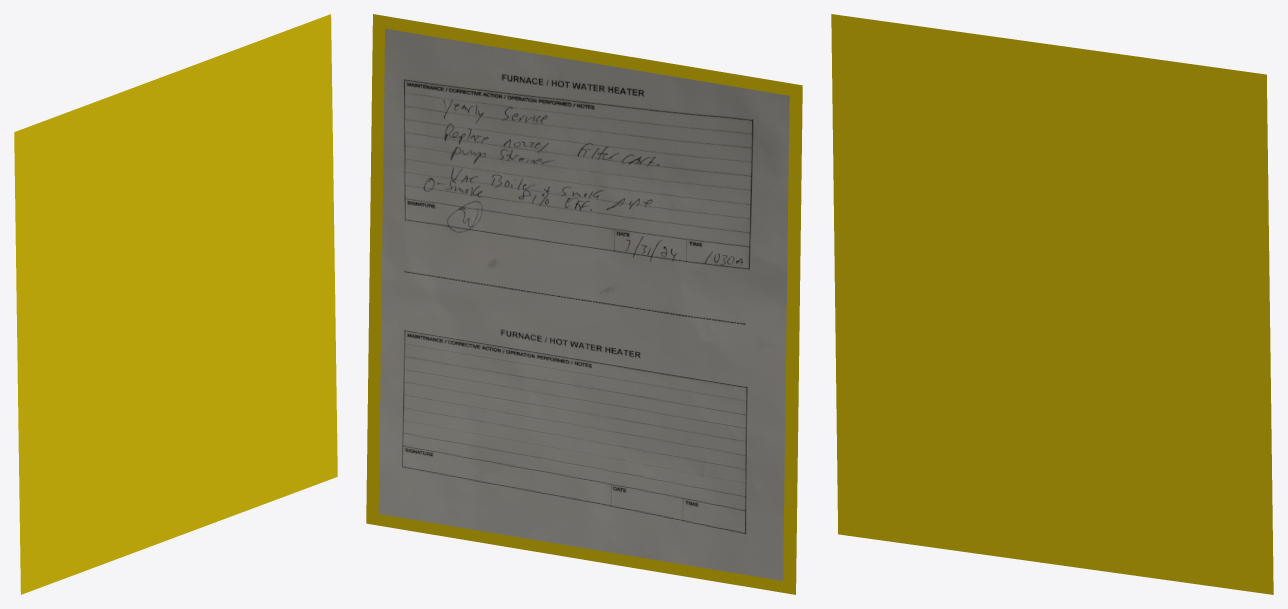
The picture shows the model from 3 angles, left to right: view 1: azimuth 30°, elevation 25°; view 2: azimuth 150°, elevation 25°; view 3: azimuth 330°, elevation 25°; orthographic projection. The views are drawn at different scales.
Visible parts, largest first — view 1: Past Inspection Log (2); view 2: Image, Past Inspection Log (2); view 3: Past Inspection Log (2).
Part boxes in pixels (x1,y1,x2,y2): Past Inspection Log (2): (14, 14, 337, 594); Image: (378, 28, 789, 580); Past Inspection Log (2): (366, 14, 802, 594); Past Inspection Log (2): (831, 14, 1273, 594).
Size of the model in its own units: 0.4259 by 0.5309 by 0.0754.
2 materials, 1 textured.
